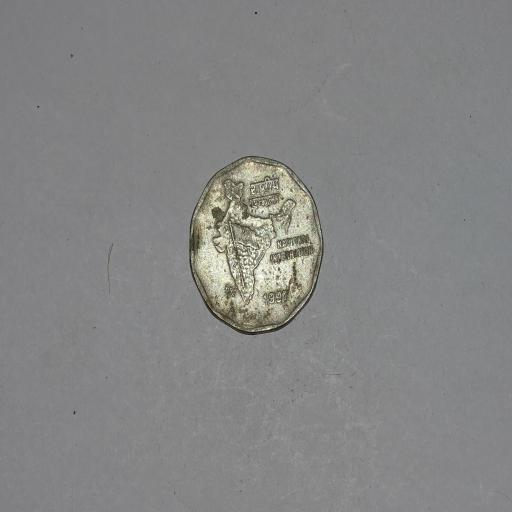rupee2: (182, 155, 327, 340)
